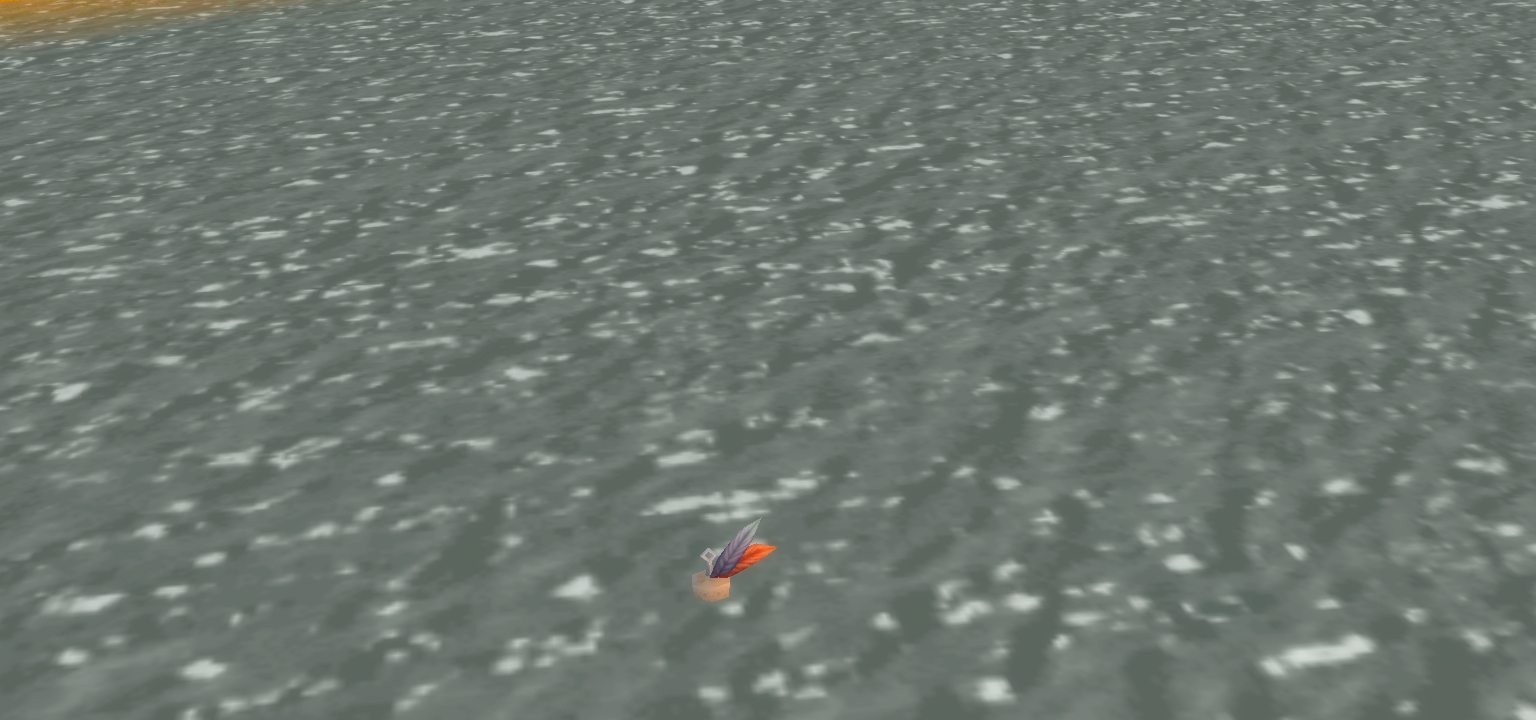Bobber: (689, 516, 775, 598)
